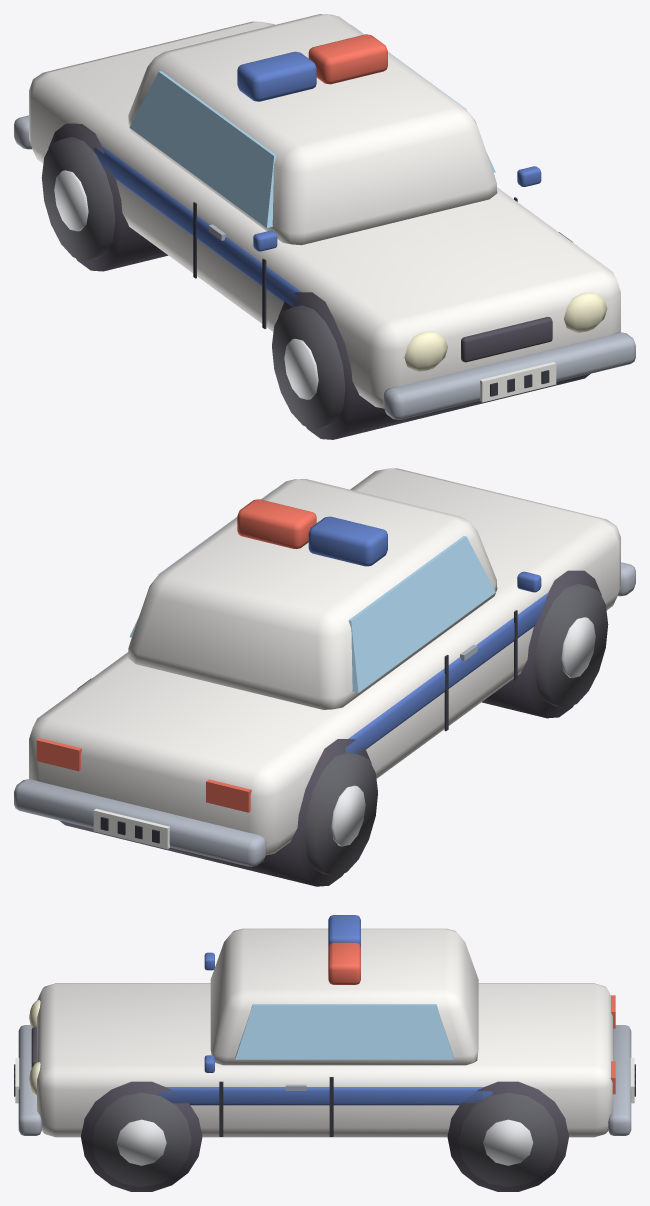
File: Car_Polis.fbx
The picture shows the model from 3 angles, top to bottom: view 1: azimuth 30°, elevation 25°; view 2: azimuth 150°, elevation 25°; view 3: azimuth 270°, elevation 25°; orthographic projection. The views are drawn at different scales.
Visible parts, largest first — view 1: Body, Wheel_RL, Wheel_FL; view 2: Body, Wheel_RL, Wheel_FL; view 3: Body, Wheel_FR, Wheel_RR.
Part boxes in pixels (x1=…): Body: x1=14, y1=14, x2=635, y2=439; Wheel_RL: x1=41, y1=137, x2=115, y2=261; Wheel_FL: x1=272, y1=305, x2=345, y2=429; Body: x1=14, y1=468, x2=635, y2=886; Wheel_RL: x1=304, y1=752, x2=377, y2=876; Wheel_FL: x1=534, y1=583, x2=608, y2=708; Body: x1=14, y1=915, x2=635, y2=1191; Wheel_FR: x1=92, y1=1092, x2=191, y2=1187; Wheel_RR: x1=458, y1=1092, x2=557, y2=1187.
Bounding box in the file's own units: 2 × 1.72 × 4.75.
